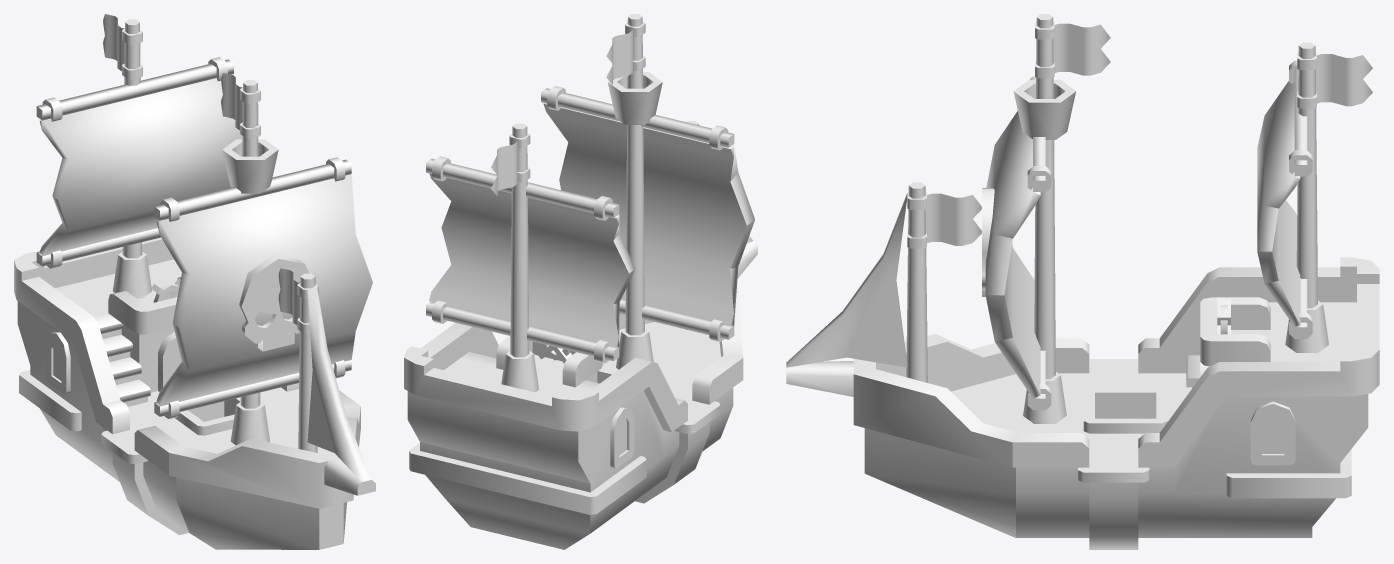
The model's file is ship-pirate-medium.glb.
3 renders of one model, left to right at view 1: azimuth 30°, elevation 25°; view 2: azimuth 150°, elevation 25°; view 3: azimuth 270°, elevation 25°, orthographic. The views are drawn at different scales.
Parts seen in each view (by area): view 1: ship-pirate-medium, sail-a, sail-b, flag-b, flag-c, flag-a; view 2: ship-pirate-medium, sail-a, sail-b, flag-c, flag-b; view 3: ship-pirate-medium, sail-a, sail-b, flag-b, flag-c, flag-a.
Boxes of the visible parts, x1,y1,x2,y2 form: ship-pirate-medium: (14, 19, 375, 549); sail-a: (154, 157, 372, 419); sail-b: (36, 57, 242, 268); flag-b: (220, 73, 260, 138); flag-c: (103, 14, 142, 79); flag-a: (278, 268, 318, 333); ship-pirate-medium: (404, 14, 757, 549); sail-a: (541, 86, 754, 341); sail-b: (426, 156, 635, 363); flag-c: (491, 133, 530, 196); flag-b: (606, 21, 645, 84); ship-pirate-medium: (786, 14, 1379, 549); sail-a: (982, 76, 1051, 410); sail-b: (1257, 60, 1312, 338); flag-b: (1035, 22, 1110, 78); flag-c: (1297, 52, 1372, 108); flag-a: (907, 192, 981, 248).
Bounding box in the file's own units: 4.8 × 9.96 × 10.6.
Materials: 1 (1 with a texture image).
